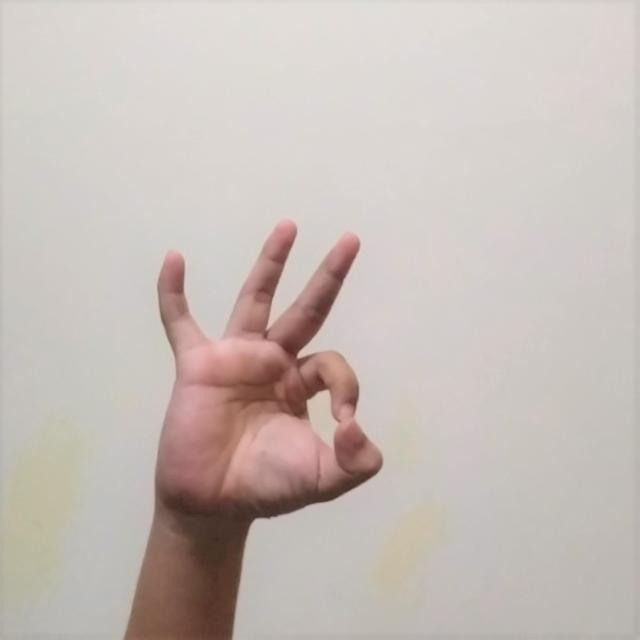O: (80, 199, 421, 523)
